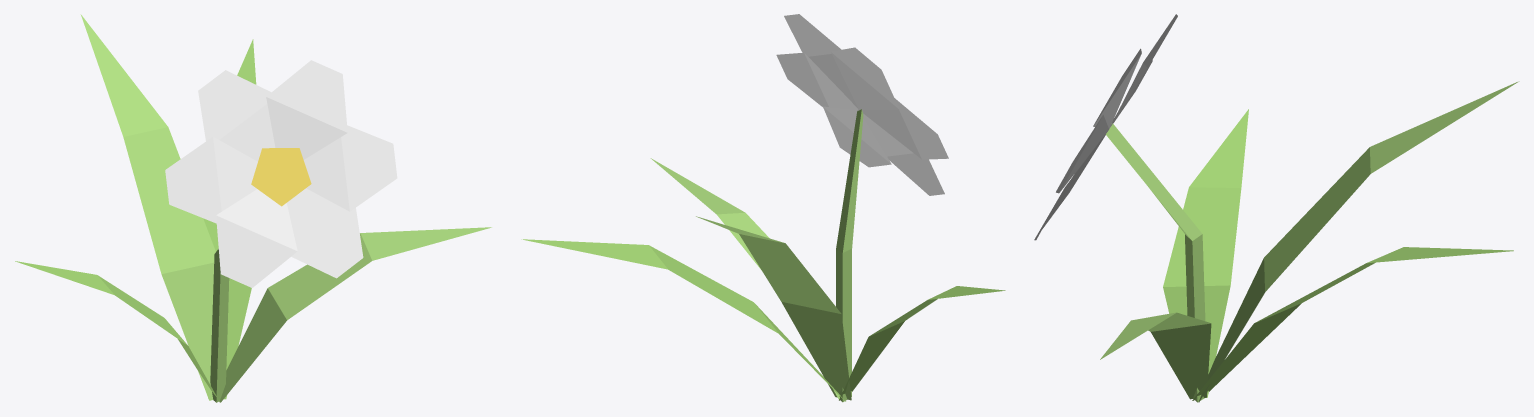
Rendered from Flower_e_TwoS_10.fbx.
3 renders of one model, left to right at view 1: azimuth 30°, elevation 25°; view 2: azimuth 150°, elevation 25°; view 3: azimuth 270°, elevation 25°, orthographic. The views are drawn at different scales.
Parts seen in each view (by area): view 1: Flower_e_TwoS_10; view 2: Flower_e_TwoS_10; view 3: Flower_e_TwoS_10.
Boxes of the visible parts, x1,y1,x2,y2 form: Flower_e_TwoS_10: (15,14,491,402); Flower_e_TwoS_10: (521,14,1005,402); Flower_e_TwoS_10: (1034,14,1519,402).
Size of the model in its own units: 41.9 by 33.13 by 37.46.
